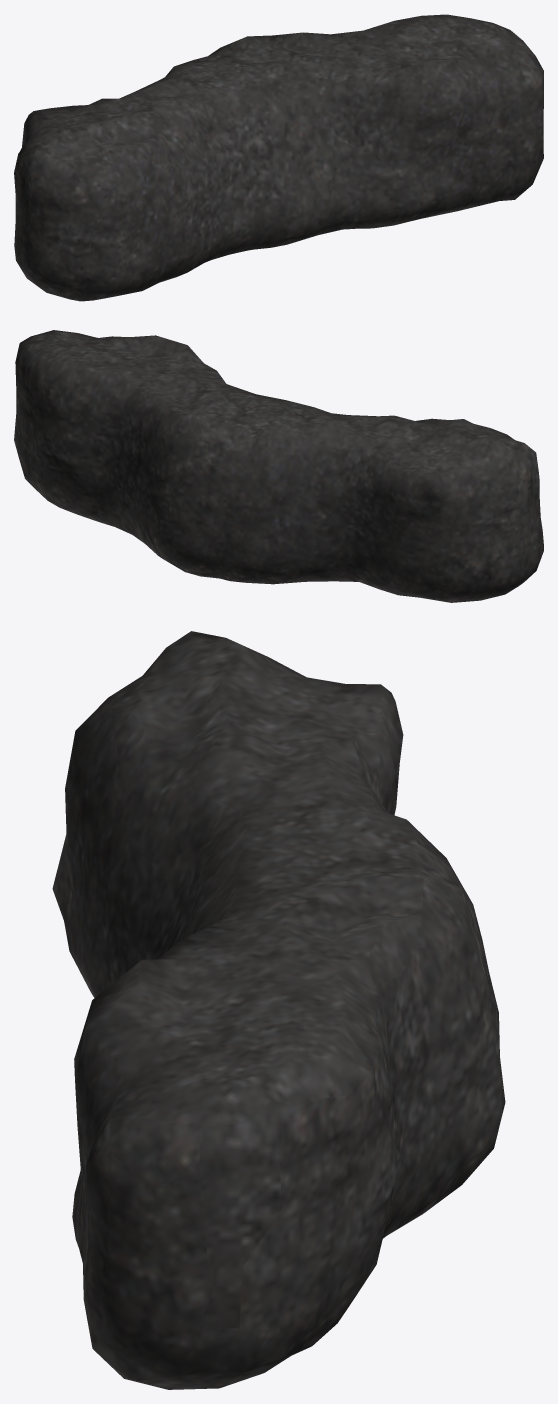
The model's file is CaveWalls4_B.obj.
3 views of the same model, one above another, from view 1: azimuth 30°, elevation 25°; view 2: azimuth 150°, elevation 25°; view 3: azimuth 270°, elevation 25° (orthographic). The views are drawn at different scales.
Visible parts, largest first — view 1: CaveWalls4B; view 2: CaveWalls4B; view 3: CaveWalls4B.
Part boxes in pixels (left/top/right/bottom): CaveWalls4B: left=14, top=14, right=543, bottom=301; CaveWalls4B: left=14, top=330, right=543, bottom=602; CaveWalls4B: left=52, top=631, right=505, bottom=1389.
Size of the model in its own units: 42.71 by 12.76 by 16.33.
Materials: 1 (1 with a texture image).
